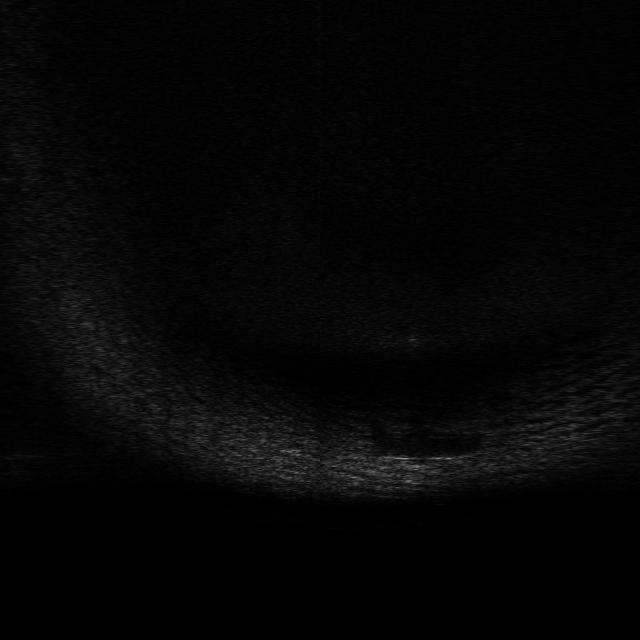plane: (377, 452, 464, 475)
